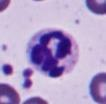N: (26, 27, 80, 78)
